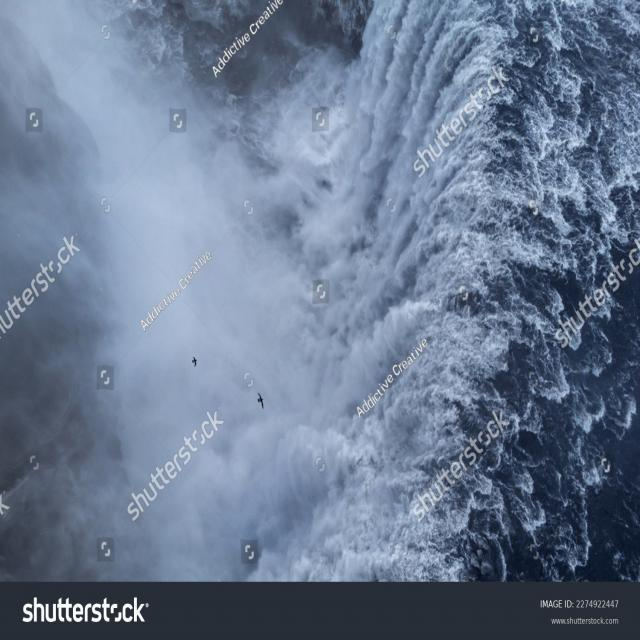bird: (246, 384, 269, 420), (187, 340, 203, 382)
